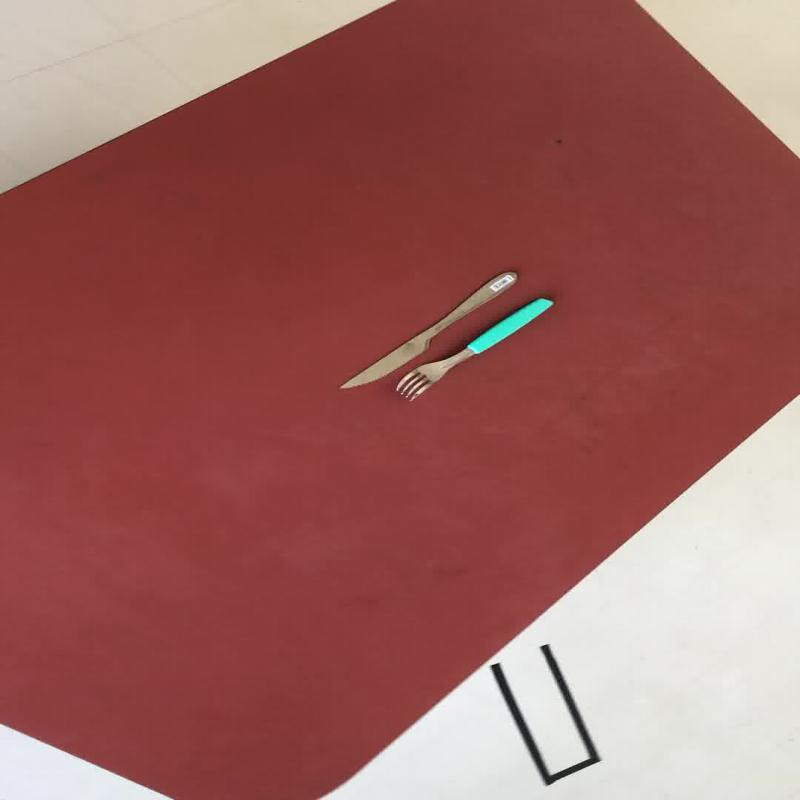fork: (392, 296, 553, 401)
knife: (336, 268, 518, 390)
